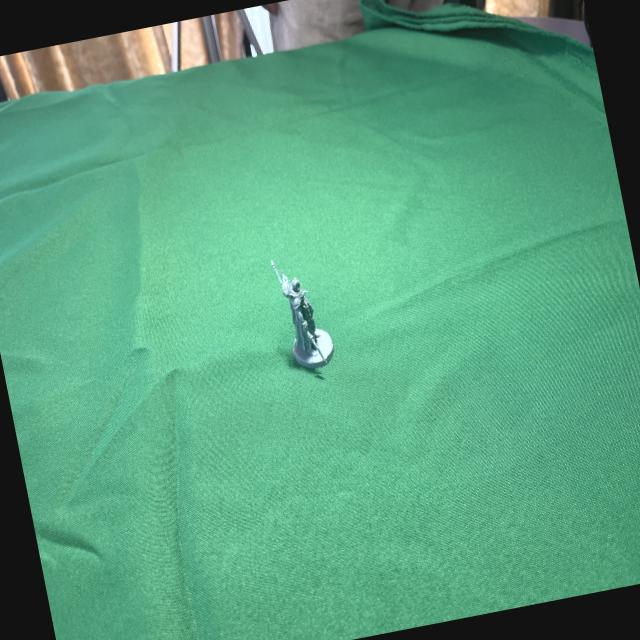isis_follower: (265, 246, 340, 382)
